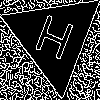H: (29, 13, 76, 70)
